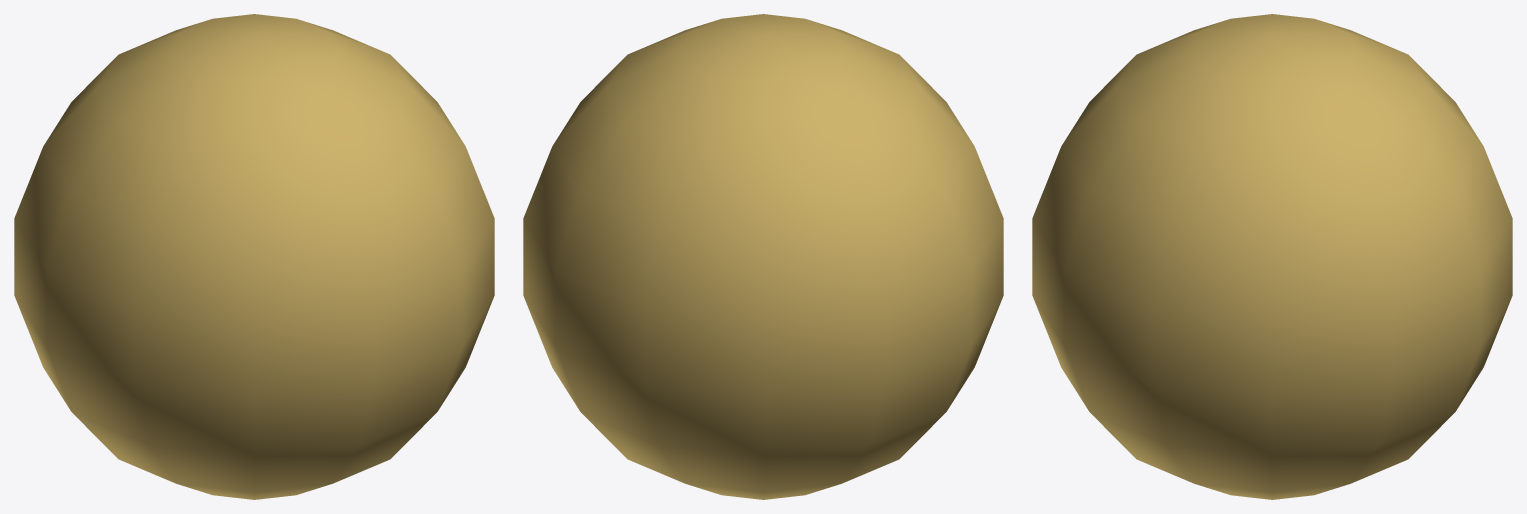
File: marble.fbx
3 renders of one model, left to right at view 1: azimuth 30°, elevation 25°; view 2: azimuth 150°, elevation 25°; view 3: azimuth 270°, elevation 25°, orthographic.
Visible parts, largest first — view 1: Marble; view 2: Marble; view 3: Marble.
Boxes of the visible parts, x1=… form: Marble: x1=14, y1=14, x2=494, y2=499; Marble: x1=523, y1=14, x2=1003, y2=499; Marble: x1=1032, y1=14, x2=1512, y2=499.
Size of the model in its own units: 138 by 140 by 138.
